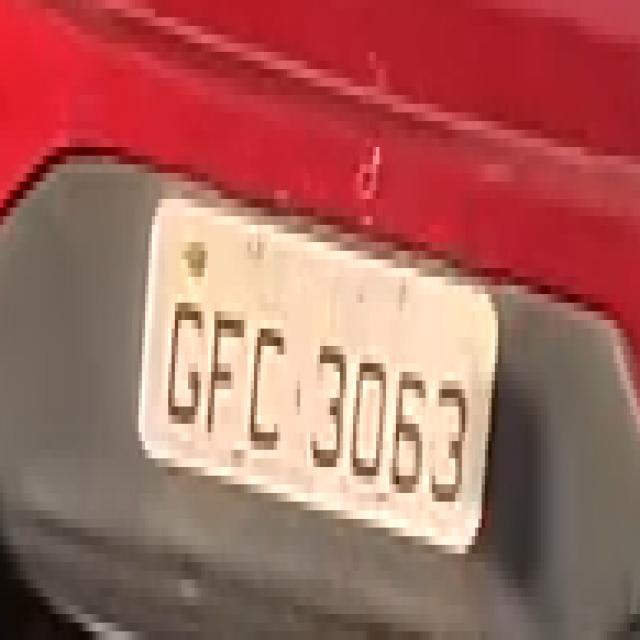Placa_mercosul_carro: (138, 190, 499, 555)
